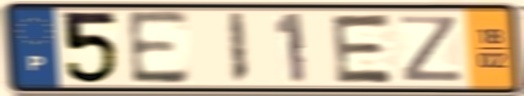1: (273, 10, 310, 87)
5: (57, 9, 124, 87)
E: (124, 8, 192, 88), (329, 12, 397, 86)
I: (225, 10, 251, 86)
Z: (396, 13, 468, 84)
